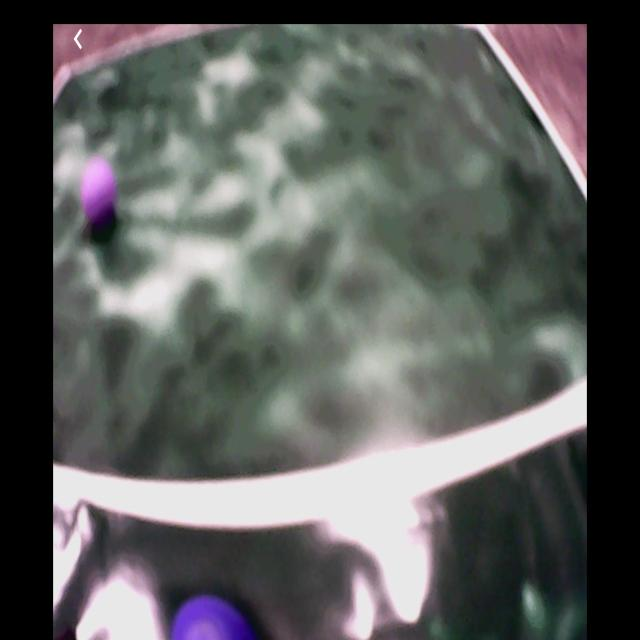ball: (173, 597, 250, 640), (82, 159, 117, 223)
